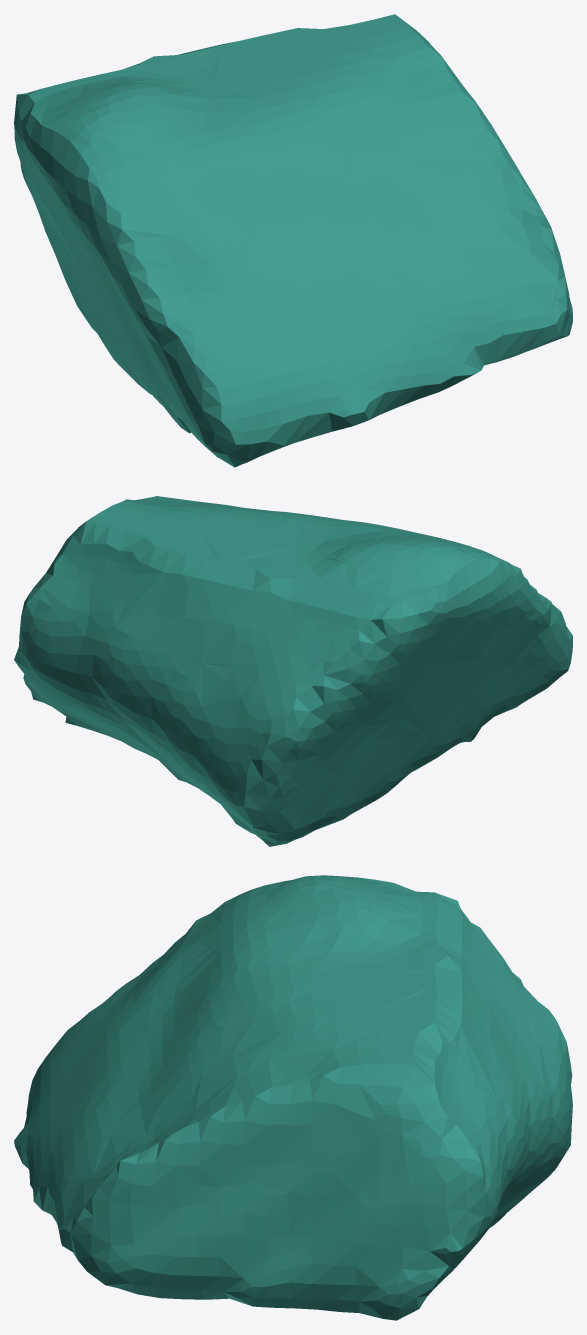
File: Model_111_RH__Parietal_areas_PGa_and_IPa_(fundus_of_superior_temporal_ventral_area)_(PGa_IPa).obj
3 views of the same model, one above another, from view 1: azimuth 30°, elevation 25°; view 2: azimuth 150°, elevation 25°; view 3: azimuth 270°, elevation 25° (orthographic). The views are drawn at different scales.
Size of the model in its own units: 2.35 by 1.5 by 2.47.
